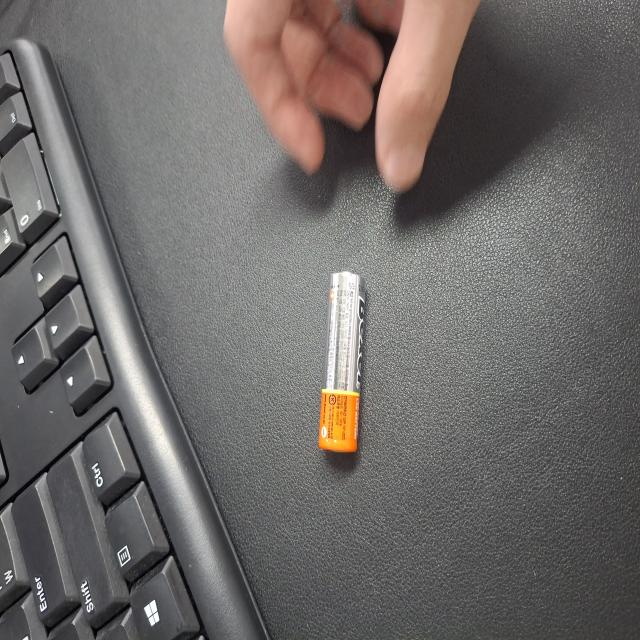AA: (141, 425, 276, 488)
